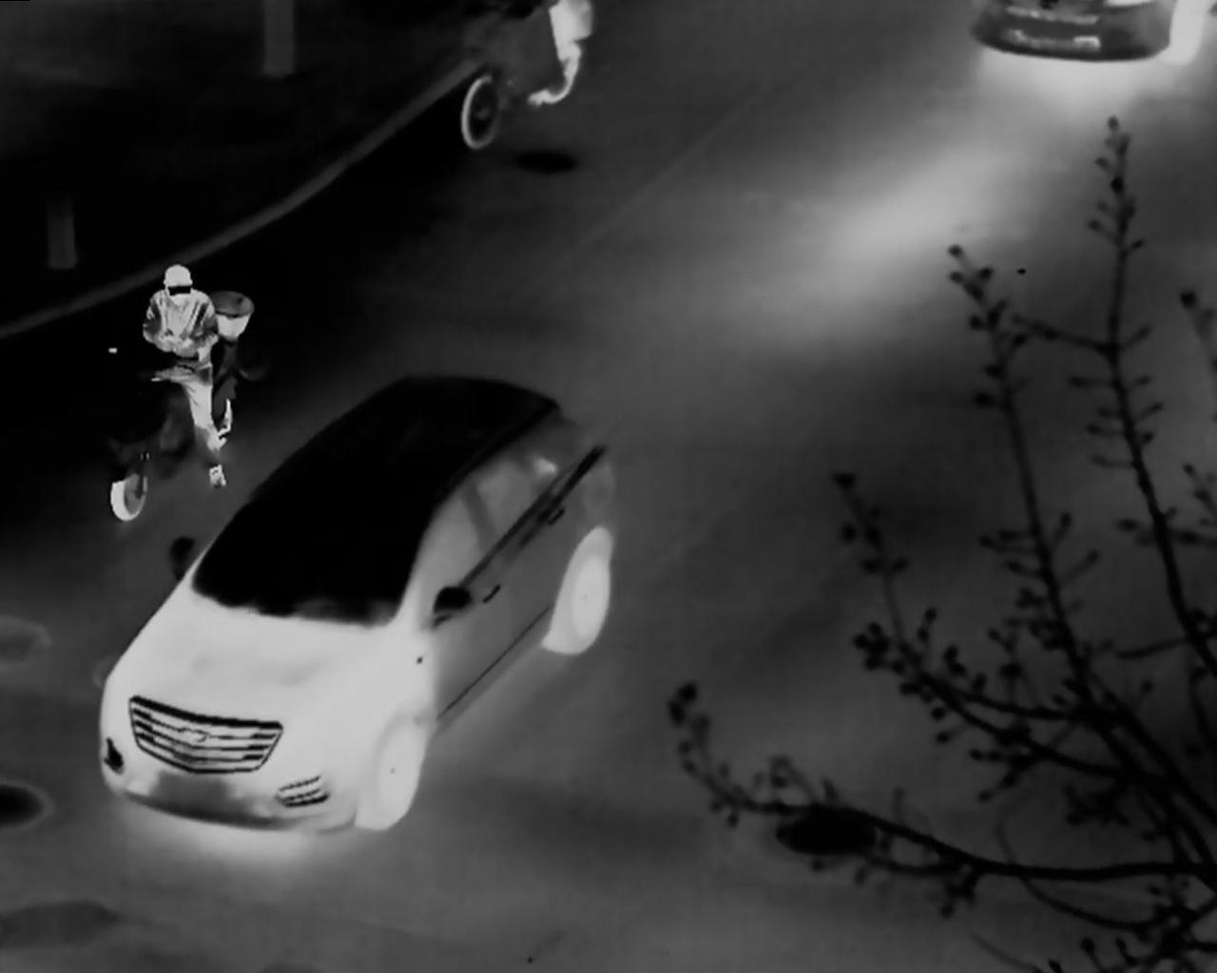person: (138, 265, 223, 458)
